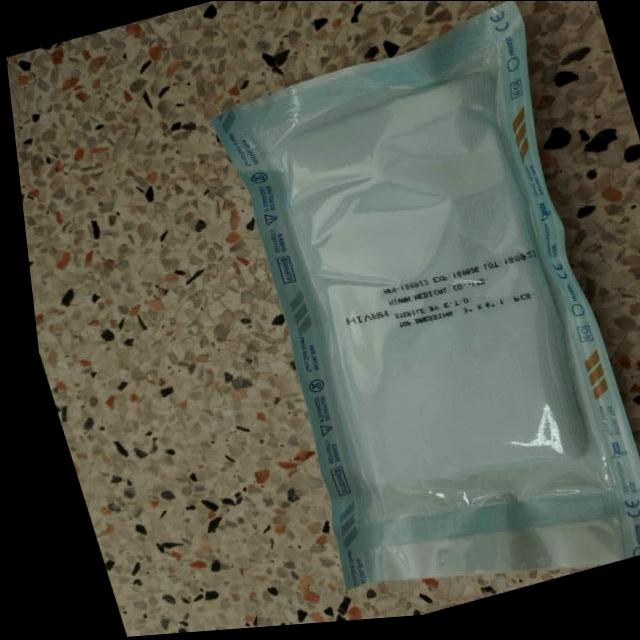Infectious: (210, 1, 638, 590)
